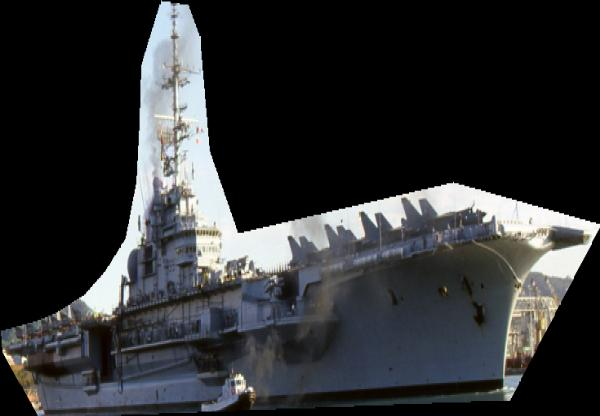Aircraft Carrier: (0, 0, 600, 416)
